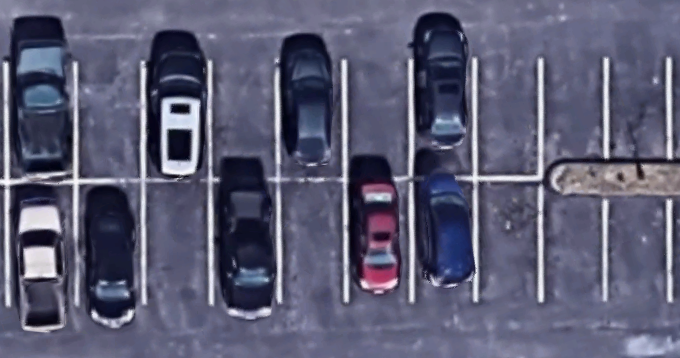Occupied: (5, 181, 77, 305), (75, 180, 145, 305), (211, 181, 280, 303), (5, 63, 76, 181), (142, 60, 210, 181), (277, 60, 345, 180), (412, 178, 477, 302), (345, 180, 411, 302), (410, 59, 475, 178)
Vacant: (144, 180, 212, 305), (278, 180, 346, 302), (475, 178, 542, 301), (210, 60, 278, 180), (74, 62, 143, 180), (344, 60, 411, 179), (477, 58, 541, 178), (540, 58, 607, 163), (605, 194, 671, 300), (605, 58, 671, 162), (541, 194, 604, 300)
